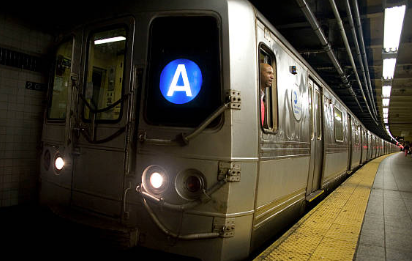train: (41, 6, 252, 201)
